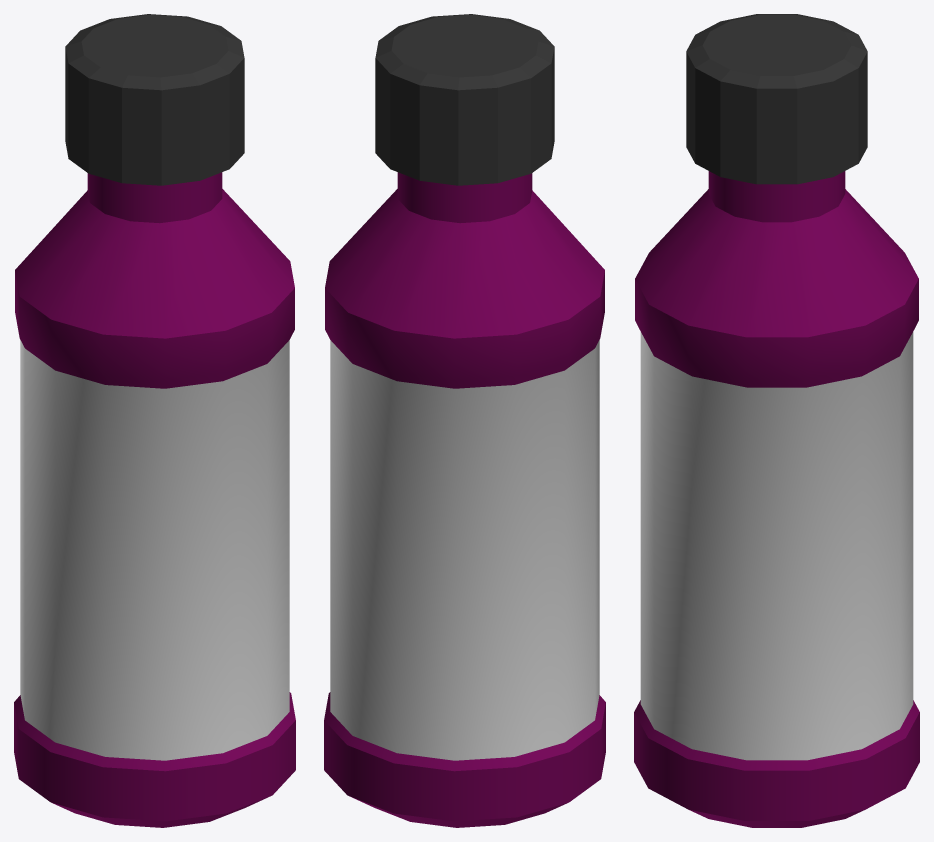
File: Bottle2.fbx
The picture shows the model from 3 angles, left to right: view 1: azimuth 30°, elevation 25°; view 2: azimuth 150°, elevation 25°; view 3: azimuth 270°, elevation 25°; orthographic projection.
Visible parts, largest first — view 1: Bottle2, Cap; view 2: Bottle2, Cap; view 3: Bottle2, Cap.
Boxes of the visible parts, bbox=[...] form: Bottle2: bbox=[14, 172, 295, 827]; Cap: bbox=[65, 14, 244, 185]; Bottle2: bbox=[324, 172, 605, 827]; Cap: bbox=[375, 14, 554, 185]; Bottle2: bbox=[634, 171, 919, 827]; Cap: bbox=[686, 14, 867, 184].
Bounding box in the file's own units: 4.45 × 12.99 × 4.56.
